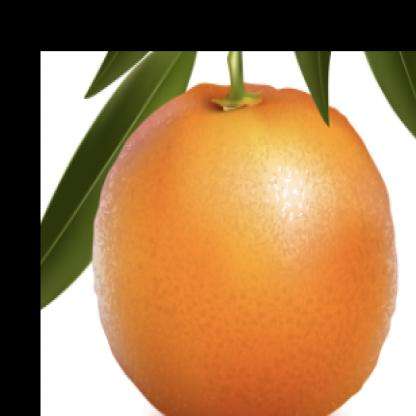fresh: (96, 81, 400, 416)
